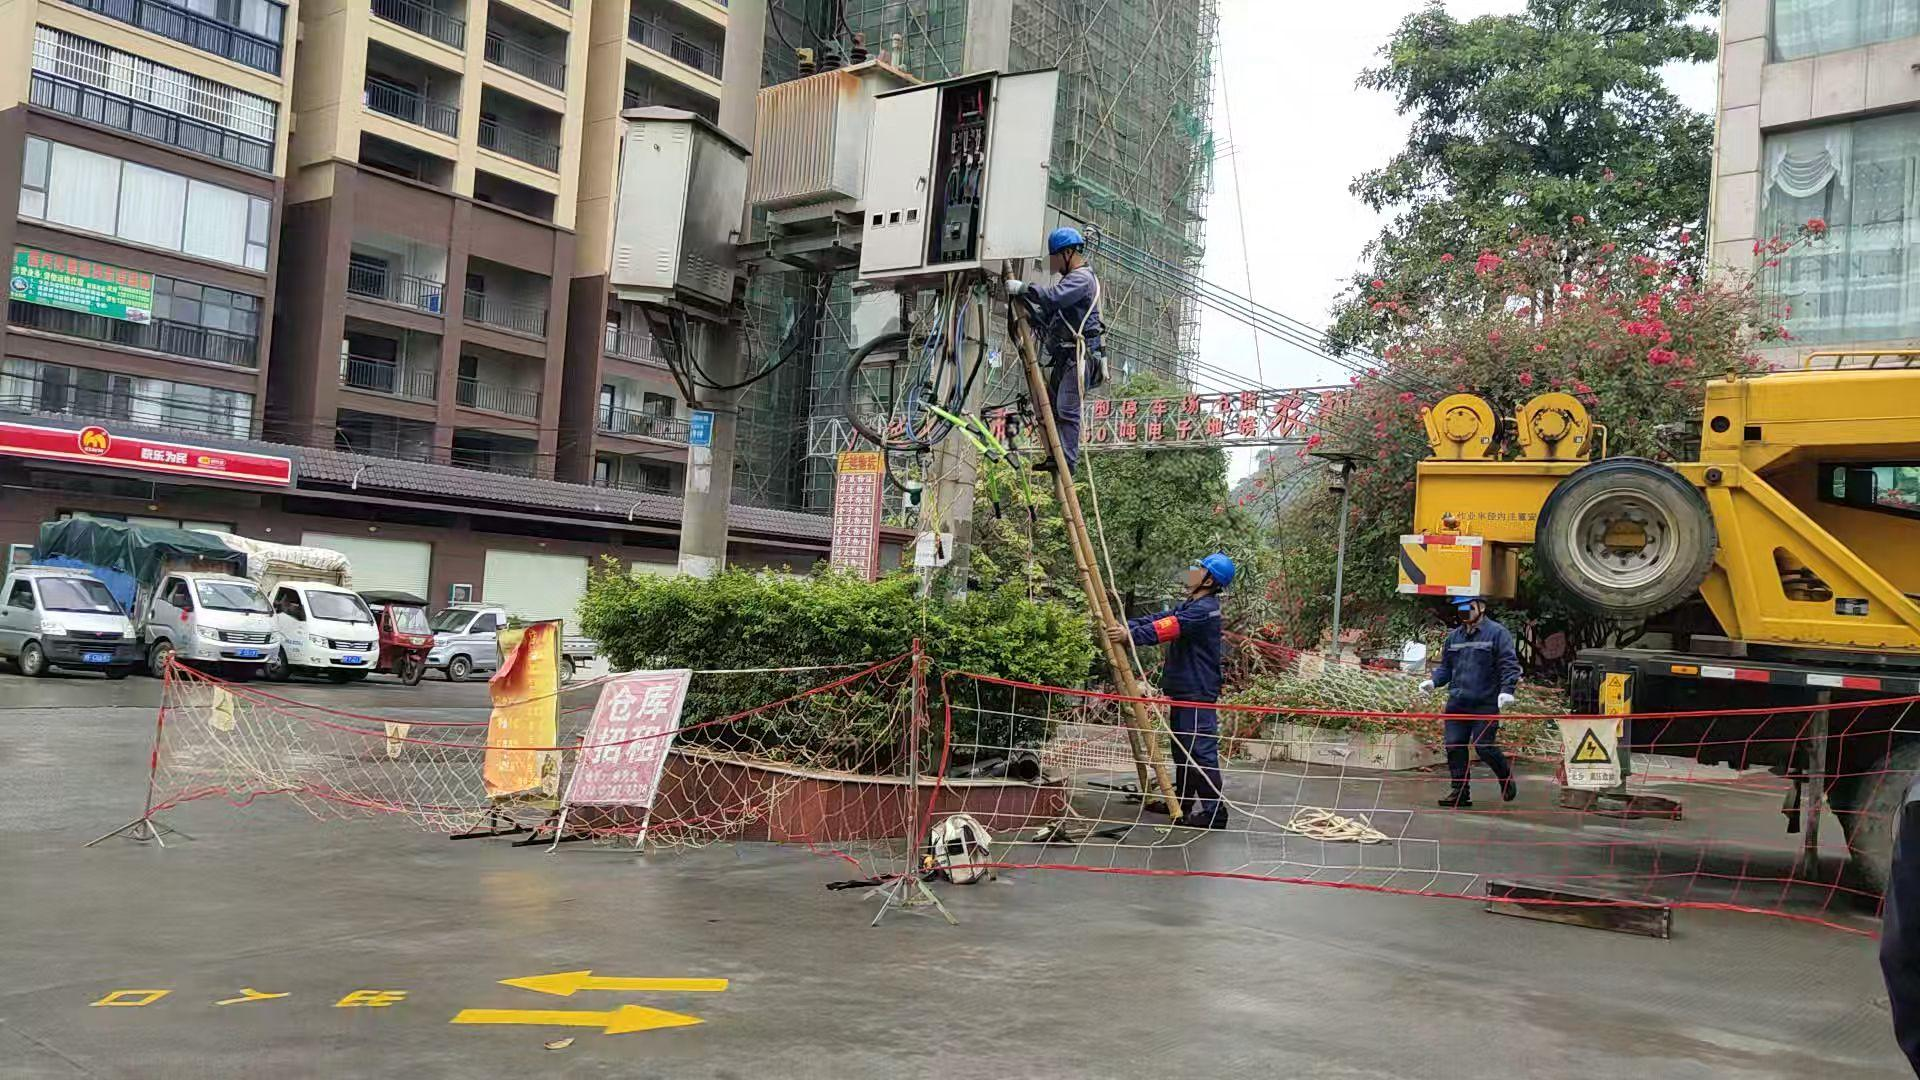halt: (1189, 556, 1238, 597), (1048, 229, 1089, 274)
inear: (1199, 574, 1220, 593)
